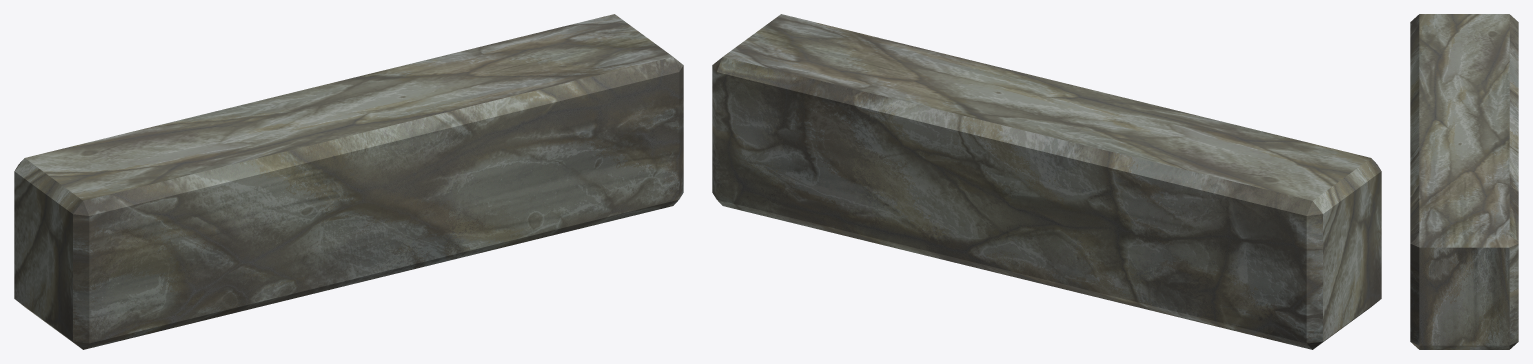
The model's file is Block.fbx.
3 renders of one model, left to right at view 1: azimuth 30°, elevation 25°; view 2: azimuth 150°, elevation 25°; view 3: azimuth 270°, elevation 25°, orthographic. The views are drawn at different scales.
Parts seen in each view (by area): view 1: Cube; view 2: Cube; view 3: Cube.
Part boxes in pixels (x1=…): Cube: x1=14, y1=14, x2=683, y2=349; Cube: x1=712, y1=14, x2=1381, y2=349; Cube: x1=1410, y1=14, x2=1518, y2=349.
Bounding box in the file's own units: 300 × 70 × 60.
